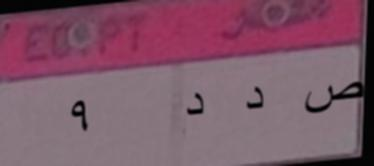9: (65, 94, 94, 142)
daal: (236, 78, 272, 122), (178, 86, 213, 128)
saad: (296, 72, 367, 126)
